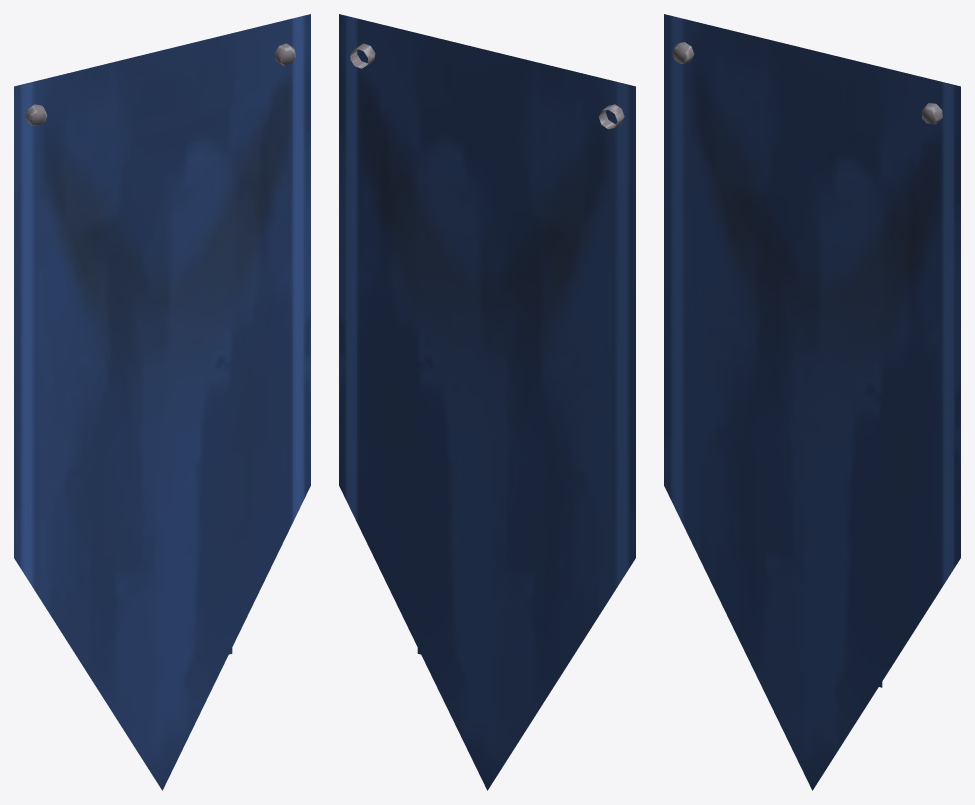
The model's file is banner_2_cloth.glb.
3 renders of one model, left to right at view 1: azimuth 30°, elevation 25°; view 2: azimuth 150°, elevation 25°; view 3: azimuth 330°, elevation 25°, orthographic.
Parts seen in each view (by area): view 1: Banner_2_Cloth; view 2: Banner_2_Cloth; view 3: Banner_2_Cloth.
Part boxes in pixels (<box>): Banner_2_Cloth: <box>14,14,310,790</box>; Banner_2_Cloth: <box>339,14,635,790</box>; Banner_2_Cloth: <box>664,14,960,790</box>.
Size of the model in its own units: 0.8101 by 1.93 by 0.0568.
2 materials, 2 textured.
